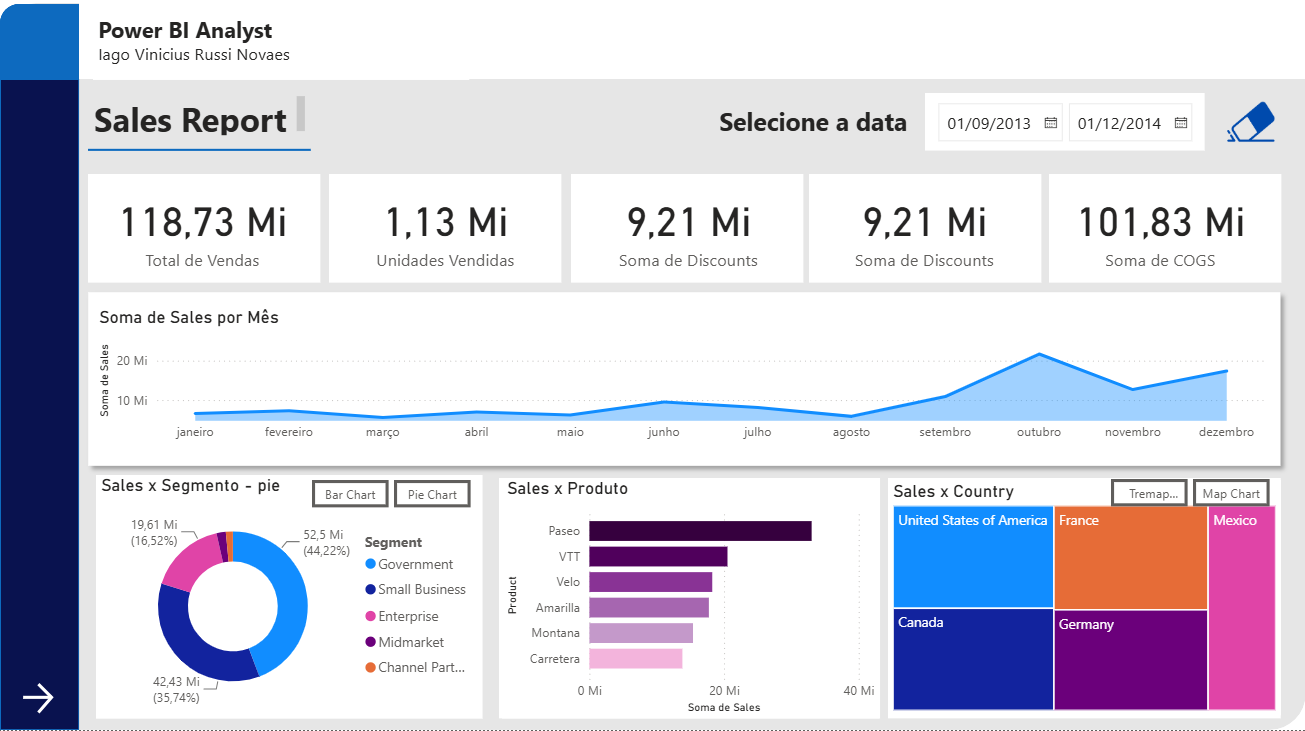

The page's visual inventory and layout, read from the dashboard file:
{"tool":"powerbi","page":{"name":"Página 1","canvas":[1280,720],"ordinal":0},"visuals":[{"type":"shape","box":[10,12.8,1270,707],"z":0},{"type":"slicer","fields":{"Values":["financials.Date"]},"box":[909.4,99.8,272.2,55.6],"z":0,"group":"g2"},{"type":"shape","box":[95.5,139.7,216.7,32.8],"z":0,"group":"g5"},{"type":"shape","box":[95.5,179.2,226.5,105.7],"z":0,"group":"g1"},{"type":"donutChart","title":"Sales x Segmento - pie","fields":{"Category":["financials.Segment"],"Y":["Sum(financials. Sales)"]},"box":[102.6,471.8,376.3,236.6],"z":0,"group":"g4"},{"type":"map","title":"Sales x Country","fields":{"Category":["financials.Country"],"Size":["Sum(financials. Sales)"]},"box":[873.8,476,382,228.1],"z":0,"group":"g3"},{"type":"actionButton","title":"Botão - bar","box":[312.8,476.4,74.5,26.6],"z":500,"group":"g4"},{"type":"actionButton","title":"Botão -pie","box":[392.6,476.4,74.5,26.6],"z":750,"group":"g4"},{"type":"shape","box":[10.1,13.4,77.2,706.3],"z":1000},{"type":"textbox","box":[96.9,98.4,215.2,48.5],"z":1000,"group":"g5"},{"type":"textbox","box":[704.1,105.5,199.6,45.6],"z":1000,"group":"g2"},{"type":"shape","box":[330.2,179.2,226.5,105.7],"z":1000,"group":"g1"},{"type":"treemap","title":"Sales x Country","fields":{"Group":["financials.Country"],"Values":["Sum(financials. Sales)"]},"box":[873.8,477.5,382,228.1],"z":1000,"group":"g3"},{"type":"actionButton","title":"Botão - map","box":[1170.8,475.2,74.5,26.6],"z":1250,"group":"g3"},{"type":"actionButton","title":"Botão - tremap","box":[1090.9,475.2,74.5,26.6],"z":1500,"group":"g3"},{"type":"shape","box":[10.1,13.4,77.2,73.8],"z":2000},{"type":"actionButton","box":[1195.9,104.1,59.9,51.3],"z":2000,"group":"g2"},{"type":"shape","box":[565.1,179.2,226.5,105.7],"z":2000,"group":"g1"},{"type":"image","title":"clean","box":[1195.9,99.8,59.9,55.6],"z":3000,"group":"g2"},{"type":"shape","box":[796.6,179.2,226.5,105.7],"z":3000,"group":"g1"},{"type":"shape","box":[86.9,12.8,1193.1,74.1],"z":4000},{"type":"shape","box":[1029.7,179.2,226.5,105.7],"z":4000,"group":"g1"},{"type":"textbox","box":[100.7,18.5,365.7,68.8],"z":5000},{"type":"card","fields":{"Values":["Sum(financials. Sales)"]},"box":[101.2,179.6,211,105.5],"z":5000,"group":"g1"},{"type":"group","id":"g1","title":"Cartões","box":[95.5,179.2,1160.7,105.9],"z":6000},{"type":"card","fields":{"Values":["Sum(financials.Units Sold)"]},"box":[337.9,179.6,211,105.5],"z":6000,"group":"g1"},{"type":"card","fields":{"Values":["Sum(financials.Discounts)"]},"box":[804,179.6,211,105.5],"z":7000,"group":"g1"},{"type":"shape","box":[86.9,285.1,1177.4,186.7],"z":7000},{"type":"card","fields":{"Values":["Sum(financials.Discounts)"]},"box":[574.5,179.6,211,105.5],"z":8000,"group":"g1"},{"type":"shape","box":[494.6,474.7,370.6,233.8],"z":8000},{"type":"card","fields":{"Values":["Sum(financials.COGS)"]},"box":[1033.4,179.6,211,105.5],"z":9000,"group":"g1"},{"type":"shape","box":[873.8,474.7,382,233.8],"z":9000},{"type":"areaChart","fields":{"Category":["financials.Date.Variation.Hierarquia de datas.Mês"],"Y":["Sum(financials. Sales)"]},"box":[101.2,307.9,1143.2,139.7],"z":10000},{"type":"clusteredBarChart","title":"Sales x Produto","fields":{"Category":["financials.Product"],"Y":["Sum(financials. Sales)"]},"box":[498.3,474.5,366.9,233.8],"z":11000},{"type":"group","id":"g2","title":"Filtro por data","box":[704.1,99.8,551.6,55.6],"z":12000},{"type":"group","id":"g3","title":"Sales x país","box":[873.8,475.2,382,230.3],"z":13000},{"type":"group","id":"g4","title":"Sales x Segmento","box":[96,471.8,382.9,236.8],"z":14000},{"type":"group","id":"g5","title":"Title report","box":[95.5,98.4,216.7,74.1],"z":15000},{"type":"actionButton","box":[25.9,669,48.8,39.6],"z":16000}]}

Visuals, with their boxes in screenshot pixels (x1, y1, x2, y2), scaled from the page's 1280x720 canvas onto the 1305x731 screenshot:
shape: box(10, 13, 1304, 730)
slicer - financials.Date: box(927, 101, 1205, 158)
shape: box(97, 142, 318, 175)
shape: box(97, 182, 328, 289)
"Sales x Segmento - pie" donutChart: box(105, 479, 488, 719)
"Sales x Country" map: box(891, 483, 1280, 715)
"Botão - bar" actionButton: box(319, 484, 395, 511)
"Botão -pie" actionButton: box(400, 484, 476, 511)
shape: box(10, 14, 89, 730)
textbox: box(99, 100, 318, 149)
textbox: box(718, 107, 921, 153)
shape: box(337, 182, 568, 289)
"Sales x Country" treemap: box(891, 485, 1280, 716)
"Botão - map" actionButton: box(1194, 482, 1270, 509)
"Botão - tremap" actionButton: box(1112, 482, 1188, 509)
shape: box(10, 14, 89, 89)
actionButton: box(1219, 106, 1280, 158)
shape: box(576, 182, 807, 289)
"clean" image: box(1219, 101, 1280, 158)
shape: box(812, 182, 1043, 289)
shape: box(89, 13, 1304, 88)
shape: box(1050, 182, 1281, 289)
textbox: box(103, 19, 476, 89)
card - Sum(financials. Sales): box(103, 182, 318, 289)
"Cartões" group: box(97, 182, 1281, 289)
card - Sum(financials.Units Sold): box(344, 182, 560, 289)
card - Sum(financials.Discounts): box(820, 182, 1035, 289)
shape: box(89, 289, 1289, 479)
card - Sum(financials.Discounts): box(586, 182, 801, 289)
shape: box(504, 482, 882, 719)
card - Sum(financials.COGS): box(1054, 182, 1269, 289)
shape: box(891, 482, 1280, 719)
areaChart - financials.Date.Variation.Hierarquia de datas.Mês x Sum(financials. Sales): box(103, 313, 1269, 454)
"Sales x Produto" clusteredBarChart: box(508, 482, 882, 719)
"Filtro por data" group: box(718, 101, 1280, 158)
"Sales x país" group: box(891, 482, 1280, 716)
"Sales x Segmento" group: box(98, 479, 488, 719)
"Title report" group: box(97, 100, 318, 175)
actionButton: box(26, 679, 76, 719)
